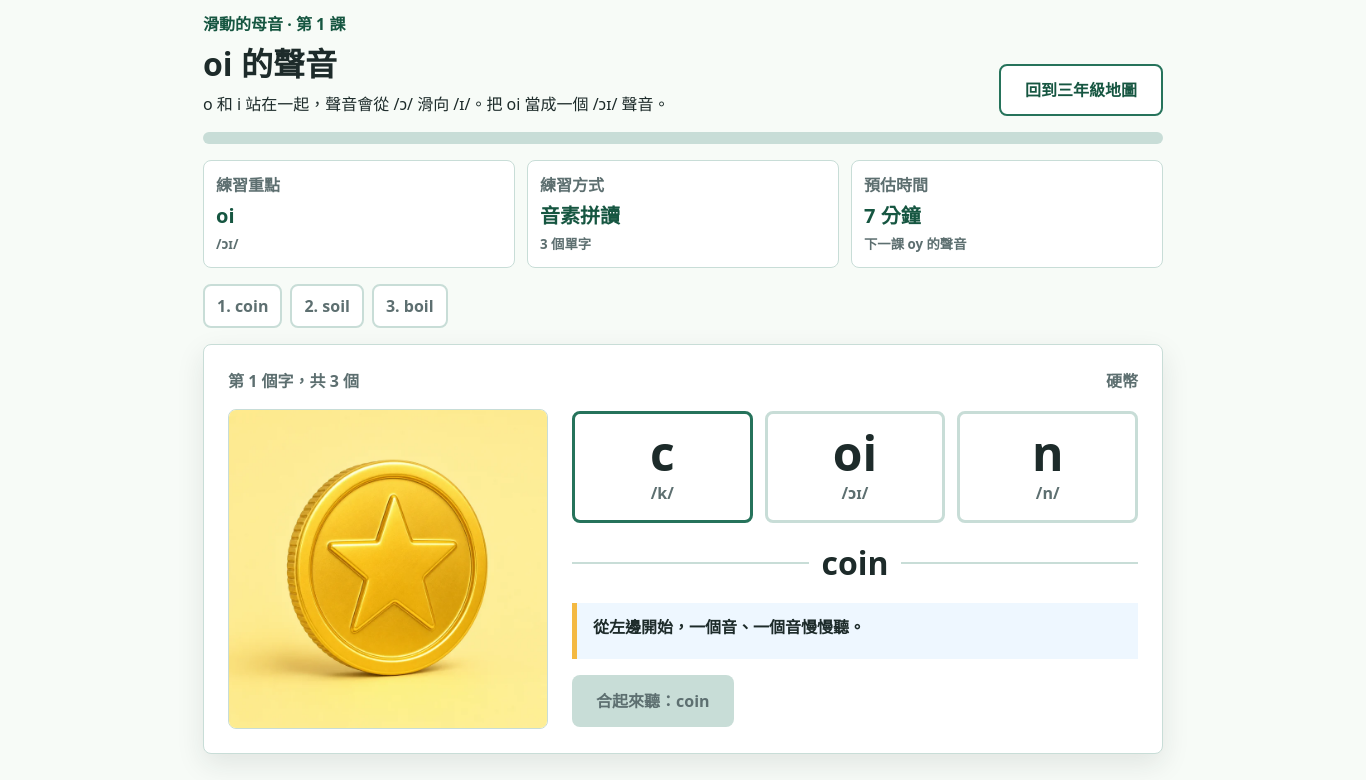
GradeThree oi lesson page › 把 coin 顯示為 c、oi、n 三個聲音單位
Expected: the heading "oi 的聲音" is shown, [203,42,337,85]
Expected: the button with aria-label "播放 oi 的聲音" is disabled, [765,411,945,523]
Click the button named "播放 c 的聲音": (662, 467) [572,411,753,523]
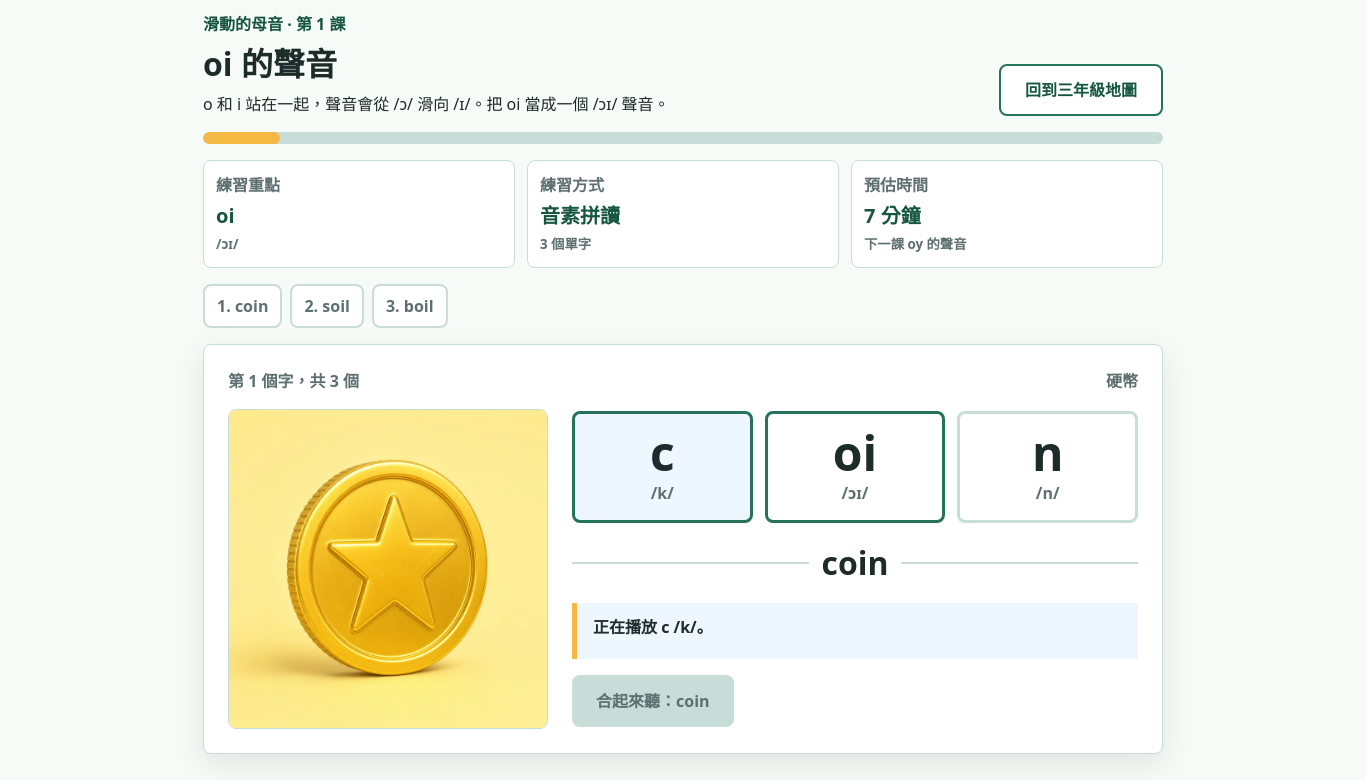
Result: the button with aria-label "播放 oi 的聲音" is enabled at [765,411,945,523]
